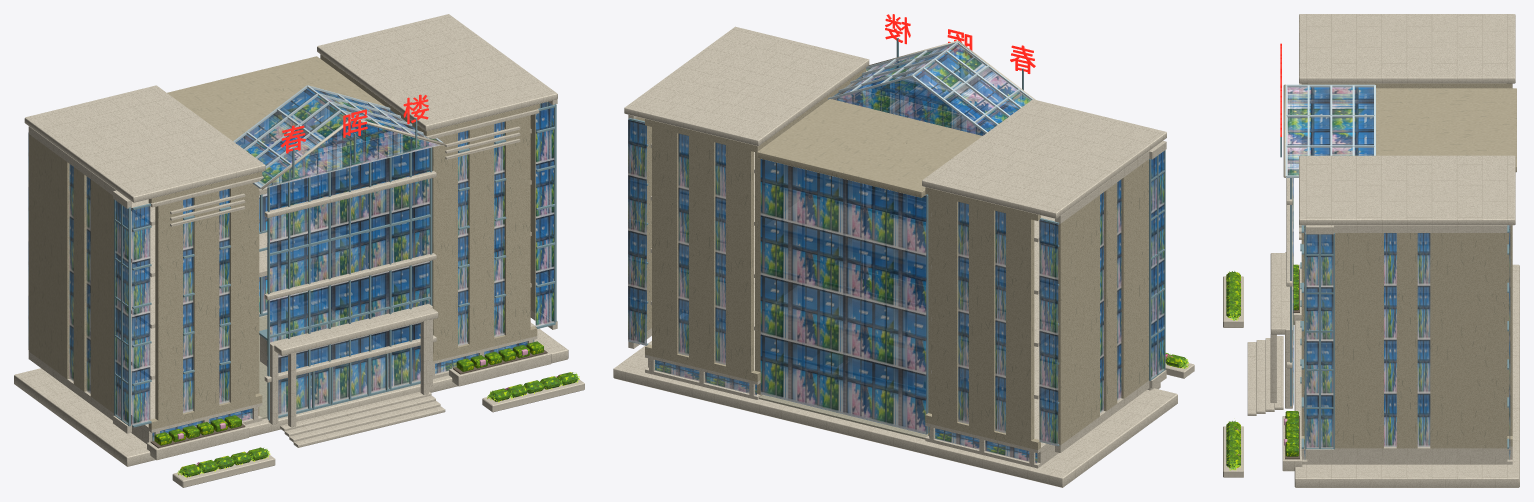
The model's file is B01_chunhui_有字_v2.glb.
The picture shows the model from 3 angles, left to right: view 1: azimuth 30°, elevation 25°; view 2: azimuth 150°, elevation 25°; view 3: azimuth 270°, elevation 25°; orthographic projection. The views are drawn at different scales.
Parts seen in each view (by area): view 1: 大厅幕墙玻璃, 侧翼屋顶, 侧翼屋顶.001, 侧翼内侧墙.001, 山墙窗间墙.002, 中部后方平顶, 基座, 入口玻璃坡顶, 山墙窗间墙, 深色竖向墙段, 深色竖向墙段.008, 深色竖向墙段.002 (+52 smaller); view 2: 大厅幕墙玻璃.001, 侧翼屋顶.001, 侧翼屋顶, 基座, 中部后方平顶, 侧翼内侧墙.001, 山墙窗间墙.002, 入口玻璃坡顶, 山墙窗间墙, 深色竖向墙段.003, 深色竖向墙段.009, 深色竖向墙段.004 (+42 smaller); view 3: 山墙窗间墙.005, 侧翼屋顶.001, 侧翼屋顶, 山墙窗间墙.003, 中部后方平顶, 基座, 入口玻璃坡顶, 外侧整面玻璃.001, 山墙窗间墙.004, 侧翼内侧墙, 山墙窄窗.003, 山墙窄窗.002 (+28 smaller).
Boxes of the visible parts, x1,y1,x2,y2 form: 大厅幕墙玻璃: [267, 148, 429, 417]; 侧翼屋顶: [24, 85, 265, 202]; 侧翼屋顶.001: [317, 14, 557, 131]; 侧翼内侧墙.001: [323, 57, 428, 373]; 山墙窗间墙.002: [28, 134, 71, 379]; 中部后方平顶: [167, 56, 387, 148]; 基座: [14, 298, 568, 466]; 入口玻璃坡顶: [236, 88, 440, 187]; 山墙窗间墙: [90, 179, 120, 414]; 深色竖向墙段: [155, 200, 182, 420]; 深色竖向墙段.008: [503, 115, 530, 335]; 深色竖向墙段.002: [228, 183, 255, 402]; 大厅幕墙玻璃.001: [760, 159, 926, 434]; 侧翼屋顶.001: [624, 26, 869, 146]; 侧翼屋顶: [922, 99, 1166, 218]; 基座: [613, 314, 1177, 487]; 中部后方平顶: [757, 99, 982, 197]; 侧翼内侧墙.001: [755, 70, 862, 395]; 山墙窗间墙.002: [1055, 195, 1099, 444]; 入口玻璃坡顶: [833, 44, 1030, 135]; 山墙窗间墙: [1119, 159, 1148, 398]; 深色竖向墙段.003: [1006, 213, 1034, 440]; 深色竖向墙段.009: [726, 145, 753, 372]; 深色竖向墙段.004: [969, 204, 996, 431]; 山墙窗间墙.005: [1430, 233, 1507, 448]; 侧翼屋顶.001: [1299, 155, 1515, 225]; 侧翼屋顶: [1299, 14, 1515, 83]; 山墙窗间墙.003: [1335, 233, 1383, 448]; 中部后方平顶: [1376, 88, 1516, 172]; 基座: [1294, 264, 1519, 487]; 入口玻璃坡顶: [1287, 87, 1373, 175]; 外侧整面玻璃.001: [1306, 234, 1333, 448]; 山墙窗间墙.004: [1396, 233, 1417, 448]; 侧翼内侧墙: [1307, 83, 1507, 154]; 山墙窄窗.003: [1417, 233, 1430, 447]; 山墙窄窗.002: [1384, 233, 1396, 447].
Bounding box in the file's own units: 18 × 11.97 × 10.54.
14 materials, 8 textured.
